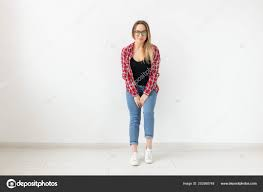person: (123, 20, 162, 69)
